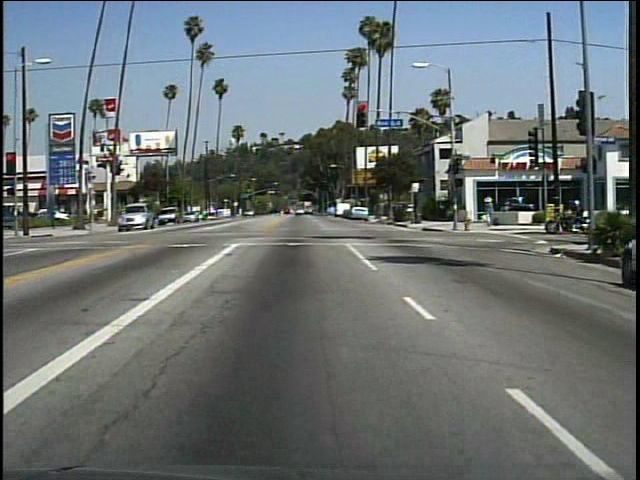person: (562, 194, 587, 236), (480, 192, 496, 228)
